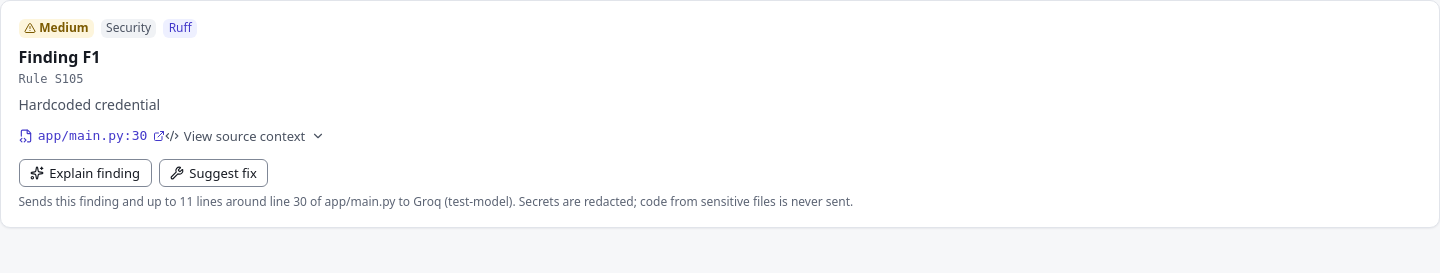
Test: finding AI (B5) › shows a clean error and does not retry
Click the button "Explain finding" at {"x": 85, "y": 173}, box [18,159,152,187]
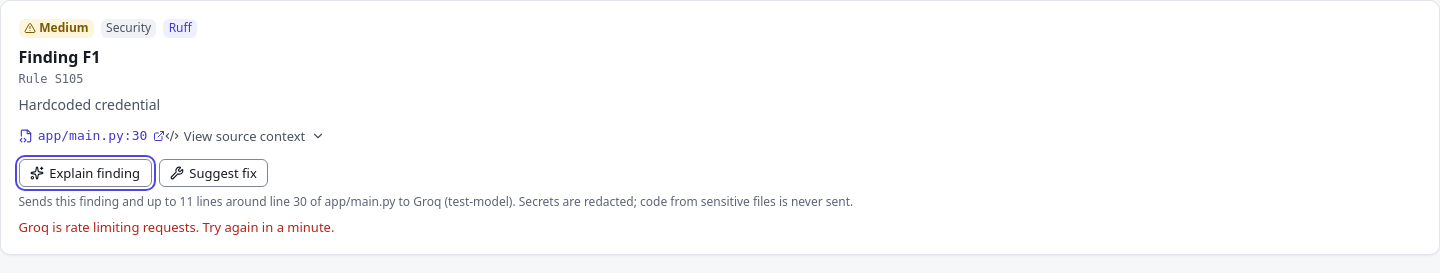
Check: the message shows "Groq is rate limiting requests", box [18,218,334,236]
